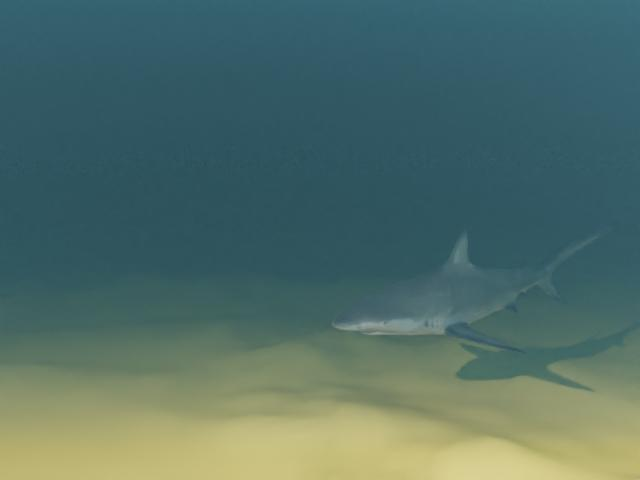Carribean Shark.001: (331, 225, 612, 353)
